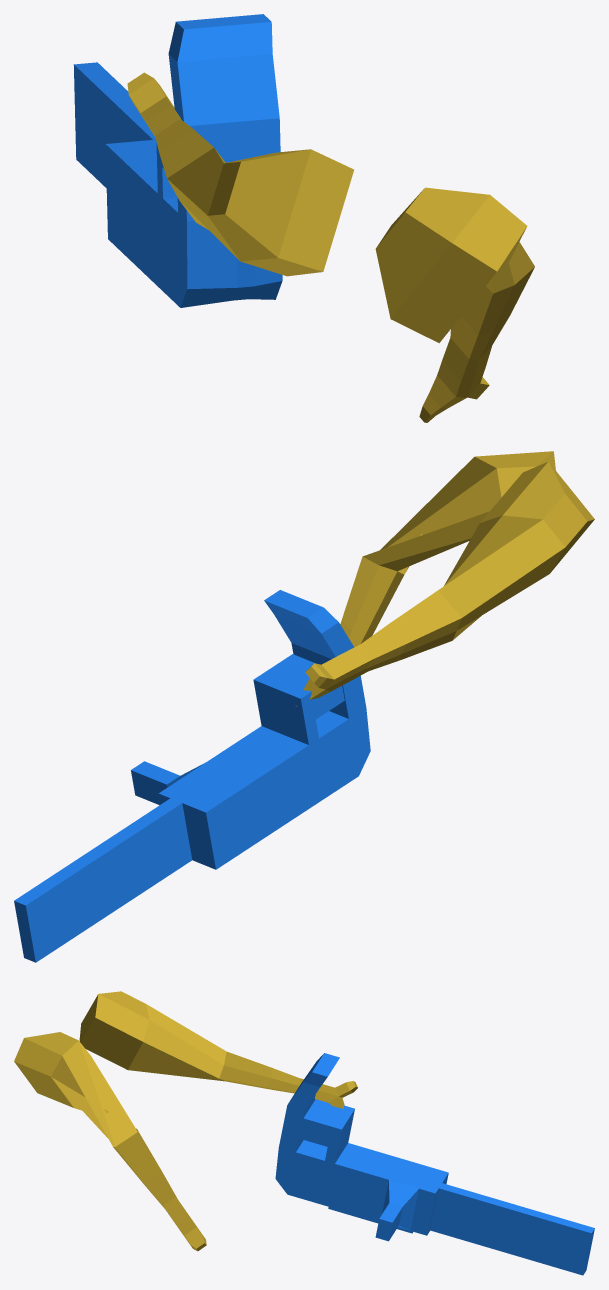
The model's file is arme_000219.obj.
3 renders of one model, top to bottom at view 1: azimuth 30°, elevation 25°; view 2: azimuth 150°, elevation 25°; view 3: azimuth 270°, elevation 25°, orthographic. The views are drawn at different scales.
Visible parts, largest first — view 1: Cube.048_Cube.024, Cube.046_Cube.010; view 2: Cube.046_Cube.010, Cube.048_Cube.024; view 3: Cube.046_Cube.010, Cube.048_Cube.024.
Part boxes in pixels (x1=…): Cube.048_Cube.024: x1=127, y1=72, x2=534, y2=422; Cube.046_Cube.010: x1=73, y1=14, x2=282, y2=307; Cube.046_Cube.010: x1=14, y1=590, x2=370, y2=962; Cube.048_Cube.024: x1=296, y1=451, x2=594, y2=706; Cube.046_Cube.010: x1=275, y1=1053, x2=594, y2=1275; Cube.048_Cube.024: x1=14, y1=991, x2=357, y2=1251.
Bounding box in the file's own units: 987 × 1064 × 2606.
